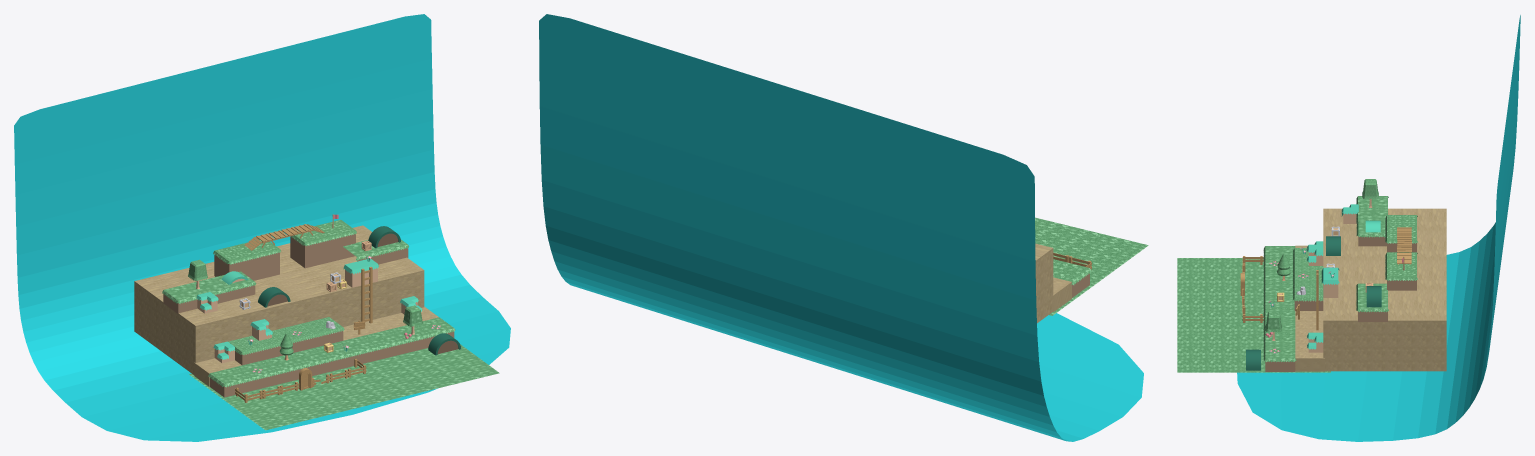
File: minecraft.fbx
3 views of the same model, side by side, from view 1: azimuth 30°, elevation 25°; view 2: azimuth 150°, elevation 25°; view 3: azimuth 270°, elevation 25° (orthographic). The views are drawn at different scales.
Visible parts, largest first — view 1: mapaMinecraft2_Plane, blockDirt2, blockLarge16, blockLarge11, blockLarge20, blockLarge17, blockDirt1, blockLarge22, fenceCorner2, blockLarge23, blockLarge21, blockLarge24 (+5 smaller); view 2: mapaMinecraft2_Plane, blockLarge16, blockDirt2, blockLarge11; view 3: mapaMinecraft2_Plane, blockDirt2, blockLarge16, blockLarge11, blockLarge20, blockLarge17, blockDirt1, blockLarge21, platform3, blockLong1, fenceCorner2, blockLarge24 (+3 smaller).
Boxes of the visible parts, left/top/right/bottom form: mapaMinecraft2_Plane: left=14, top=14, right=510, bottom=441; blockDirt2: left=134, top=225, right=424, bottom=374; blockLarge16: left=189, top=344, right=499, bottom=430; blockLarge11: left=208, top=317, right=455, bottom=397; blockLarge20: left=162, top=239, right=408, bottom=313; blockLarge17: left=228, top=317, right=344, bottom=365; blockDirt1: left=194, top=306, right=438, bottom=386; blockLarge22: left=290, top=226, right=331, bottom=268; fenceCorner2: left=235, top=359, right=366, bottom=402; blockLarge23: left=213, top=244, right=255, bottom=280; blockLarge21: left=316, top=220, right=356, bottom=261; blockLarge24: left=240, top=239, right=280, bottom=280; mapaMinecraft2_Plane: left=539, top=14, right=1143, bottom=441; blockLarge16: left=1035, top=217, right=1148, bottom=315; blockDirt2: left=1035, top=243, right=1053, bottom=323; blockLarge11: left=1053, top=259, right=1091, bottom=297; mapaMinecraft2_Plane: left=1237, top=15, right=1520, bottom=441; blockDirt2: left=1323, top=208, right=1446, bottom=371; blockLarge16: left=1177, top=258, right=1330, bottom=372; blockLarge11: left=1263, top=246, right=1296, bottom=371; blockLarge20: left=1356, top=196, right=1388, bottom=321; blockLarge17: left=1293, top=248, right=1323, bottom=310; blockDirt1: left=1295, top=245, right=1324, bottom=371; blockLarge21: left=1385, top=265, right=1417, bottom=290; platform3: left=1397, top=227, right=1411, bottom=264; blockLong1: left=1321, top=267, right=1339, bottom=297; fenceCorner2: left=1240, top=256, right=1263, bottom=322; blockLarge24: left=1385, top=227, right=1417, bottom=252.
Bounding box in the file's own units: 6303 × 3936 × 4586.
Materials: 41 (7 with a texture image).
